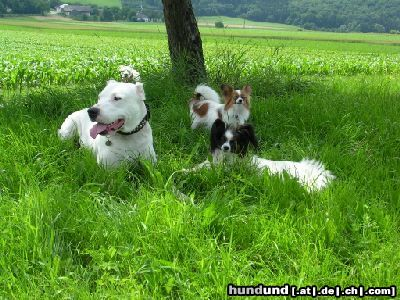dogo_argentino: (56, 79, 158, 177)
other_dog_breed: (178, 118, 337, 193), (188, 84, 252, 130)
